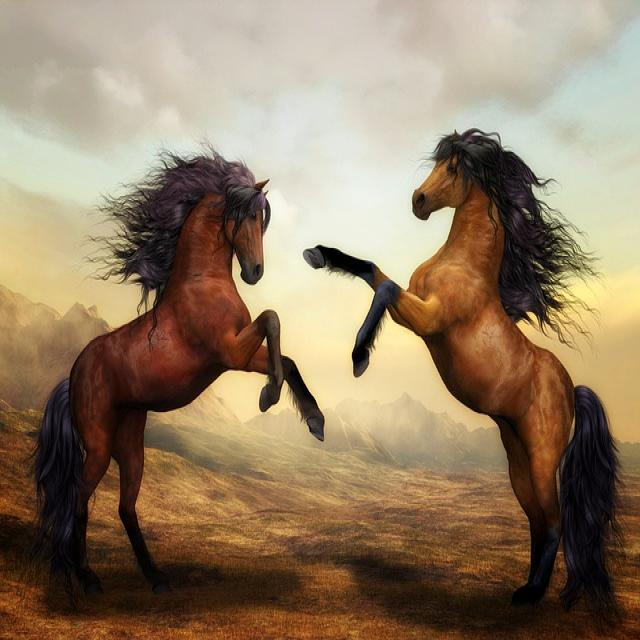Herbivorous: (309, 129, 621, 629), (32, 160, 281, 617)
